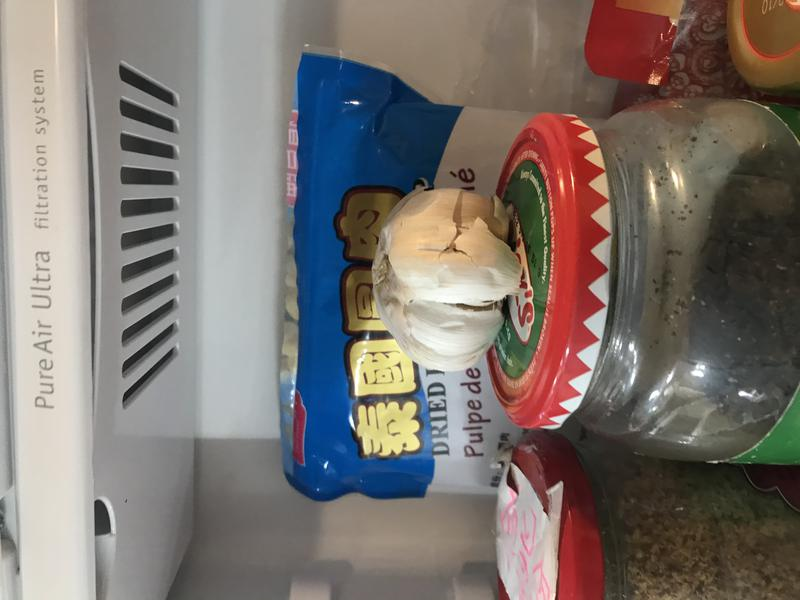garlic: (363, 179, 529, 385)
